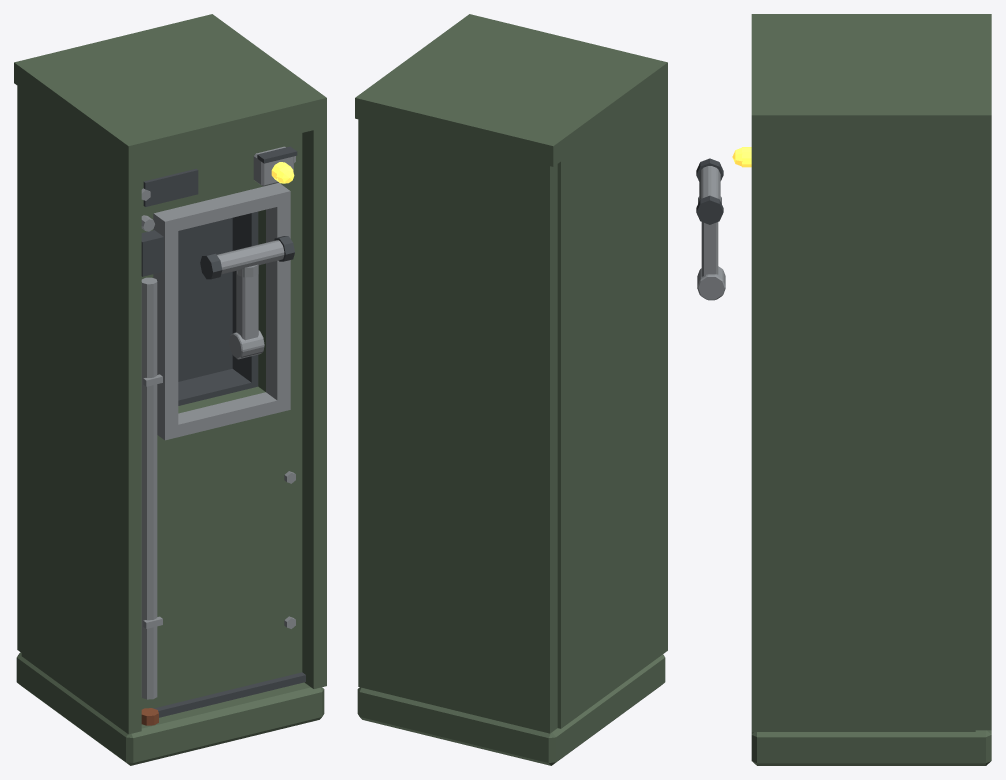
File: relay_lever_weather_station.glb
3 renders of one model, left to right at view 1: azimuth 30°, elevation 25°; view 2: azimuth 150°, elevation 25°; view 3: azimuth 270°, elevation 25°, orthographic. The views are drawn at different scales.
Parts seen in each view (by area): view 1: Relay_Housing, Relay_Lever; view 2: Relay_Housing; view 3: Relay_Housing, Relay_Lever.
Part boxes in pixels (x1=…): Relay_Housing: x1=14, y1=14, x2=326, y2=765; Relay_Lever: x1=200, y1=236, x2=294, y2=359; Relay_Housing: x1=355, y1=14, x2=667, y2=765; Relay_Housing: x1=751, y1=14, x2=991, y2=765; Relay_Lever: x1=696, y1=158, x2=725, y2=300.
Size of the model in its own units: 0.6 by 1.8 by 0.738.
